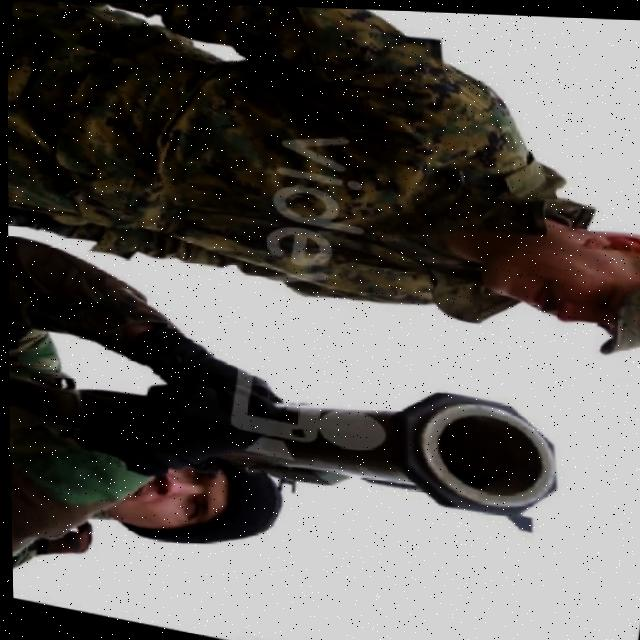rocket: (202, 346, 572, 538)
